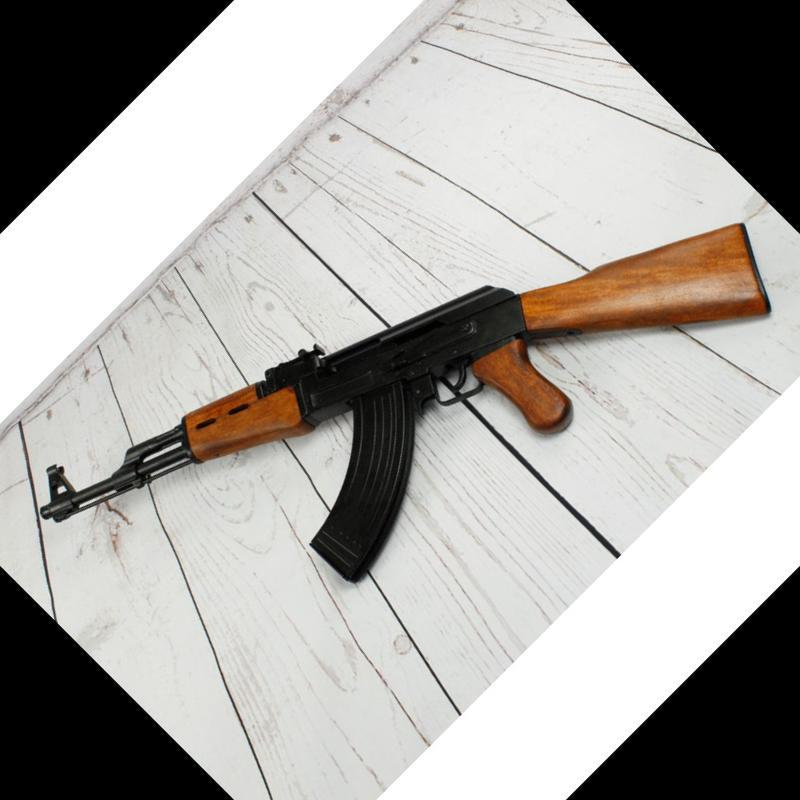larga: (38, 220, 773, 586)
